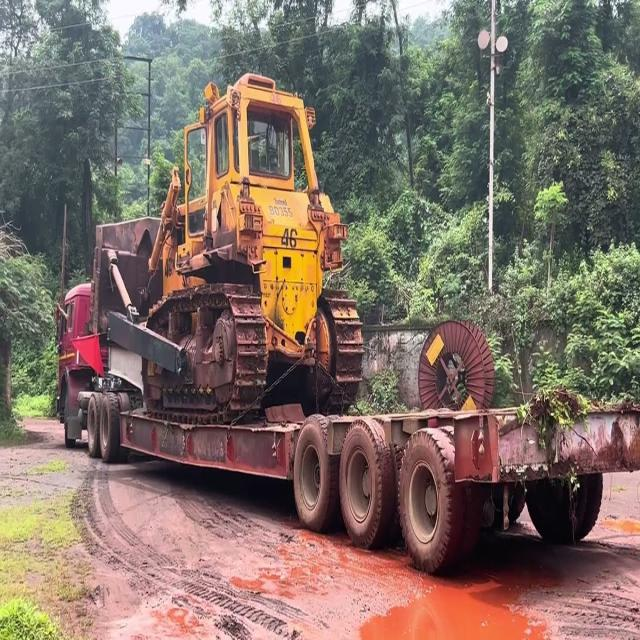buldozerpayloadergrader: (100, 74, 366, 407)
